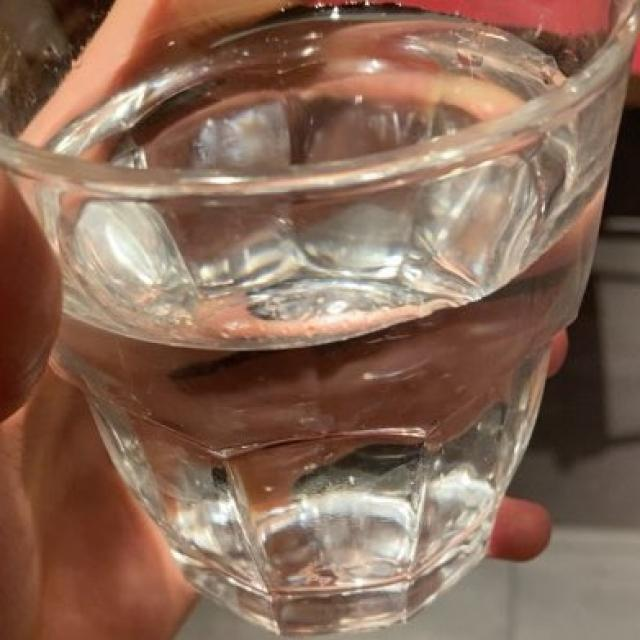water: (45, 24, 553, 586)
